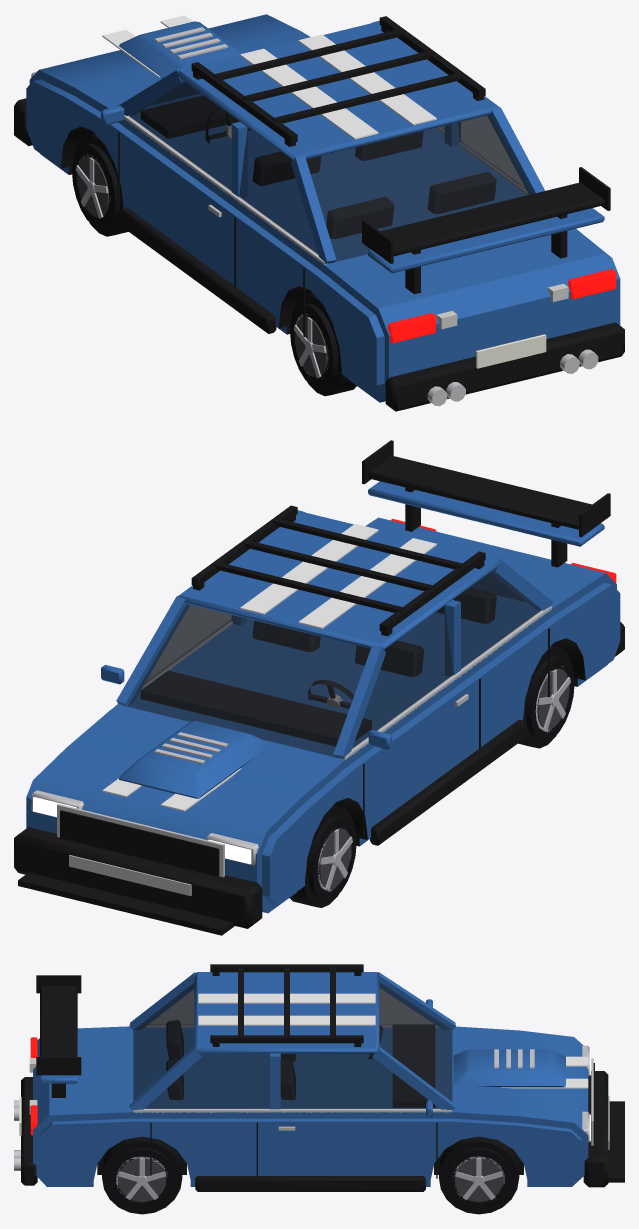
The model's file is sedan.glb.
The picture shows the model from 3 angles, top to bottom: view 1: azimuth 30°, elevation 25°; view 2: azimuth 150°, elevation 25°; view 3: azimuth 270°, elevation 25°; orthographic projection. The views are drawn at different scales.
Parts seen in each view (by area): view 1: Body.001, Mod_spoiler_2.001, Mod_roof_1.001, Mod_livery_1.001, Mod_spoiler_1.001, Wheel_RL.001, Wheel_FL.001, Mod_skirts_1.001, Mod_hood_1.001, Mod_exhaust_2.001, Mod_hood_2.001, Mod_bumper_1.001; view 2: Body.001, Mod_bumper_1.001, Mod_spoiler_2.001, Mod_roof_1.001, Mod_hood_1.001, Mod_livery_1.001, Mod_spoiler_1.001, Wheel_FL.001, Mod_grille_2.001, Wheel_RL.001, Mod_grille_1.001, Mod_skirts_1.001 (+2 smaller); view 3: Body.001, Wheel_RR.001, Wheel_FR.001, Mod_spoiler_2.001, Mod_livery_1.001, Mod_roof_1.001, Mod_hood_1.001, Mod_skirts_1.001, Mod_bumper_1.001, Mod_bumper_2.001, Mod_spoiler_1.001, Mod_hood_2.001.
Boxes of the visible parts, bbox=[...] form: Body.001: bbox=[26, 14, 624, 411]; Mod_spoiler_2.001: bbox=[362, 167, 610, 293]; Mod_roof_1.001: bbox=[191, 16, 485, 146]; Mod_livery_1.001: bbox=[102, 15, 436, 139]; Mod_spoiler_1.001: bbox=[368, 208, 604, 294]; Wheel_RL.001: bbox=[290, 293, 356, 396]; Wheel_FL.001: bbox=[72, 134, 128, 236]; Mod_skirts_1.001: bbox=[119, 208, 276, 333]; Mod_hood_1.001: bbox=[119, 21, 242, 93]; Mod_exhaust_2.001: bbox=[427, 349, 598, 406]; Mod_hood_2.001: bbox=[154, 27, 228, 59]; Mod_bumper_1.001: bbox=[14, 98, 32, 146]; Body.001: bbox=[26, 510, 624, 913]; Mod_bumper_1.001: bbox=[14, 827, 262, 928]; Mod_spoiler_2.001: bbox=[362, 440, 610, 566]; Mod_roof_1.001: bbox=[191, 505, 485, 636]; Mod_hood_1.001: bbox=[119, 720, 267, 798]; Mod_livery_1.001: bbox=[102, 524, 436, 811]; Mod_spoiler_1.001: bbox=[368, 481, 604, 567]; Wheel_FL.001: bbox=[290, 805, 356, 907]; Mod_grille_2.001: bbox=[57, 804, 224, 877]; Wheel_RL.001: bbox=[518, 645, 574, 748]; Mod_grille_1.001: bbox=[69, 811, 210, 873]; Mod_skirts_1.001: bbox=[370, 719, 526, 845]; Body.001: bbox=[19, 972, 591, 1186]; Wheel_RR.001: bbox=[102, 1136, 182, 1214]; Wheel_FR.001: bbox=[439, 1136, 519, 1214]; Mod_spoiler_2.001: bbox=[36, 975, 81, 1097]; Mod_livery_1.001: bbox=[198, 993, 588, 1088]; Mod_roof_1.001: bbox=[210, 964, 363, 1046]; Mod_hood_1.001: bbox=[453, 1049, 565, 1087]; Mod_skirts_1.001: bbox=[195, 1176, 425, 1191]; Mod_bumper_1.001: bbox=[584, 1071, 609, 1187]; Mod_bumper_2.001: bbox=[608, 1101, 624, 1182]; Mod_spoiler_1.001: bbox=[40, 1075, 77, 1097]; Mod_hood_2.001: bbox=[494, 1049, 534, 1068].
Size of the model in its own units: 2.18 by 1.6 by 5.17.
